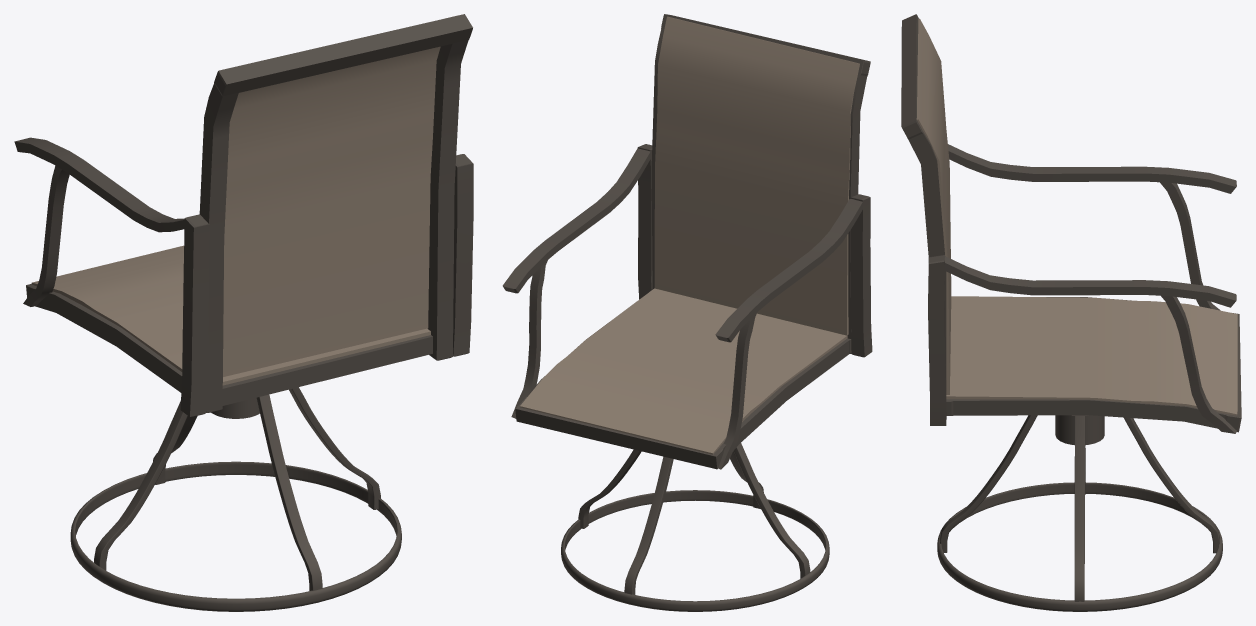
Rendered from Proto_FancyChair_01.fbx.
3 renders of one model, left to right at view 1: azimuth 30°, elevation 25°; view 2: azimuth 150°, elevation 25°; view 3: azimuth 270°, elevation 25°, orthographic. The views are drawn at different scales.
Parts seen in each view (by area): view 1: polySurface1421; view 2: polySurface1421; view 3: polySurface1421.
Boxes of the visible parts, x1,y1,x2,y2 form: polySurface1421: (14, 14, 473, 611); polySurface1421: (502, 14, 872, 611); polySurface1421: (901, 14, 1241, 611).
Bounding box in the file's own units: 5.97 × 11.08 × 6.96.
